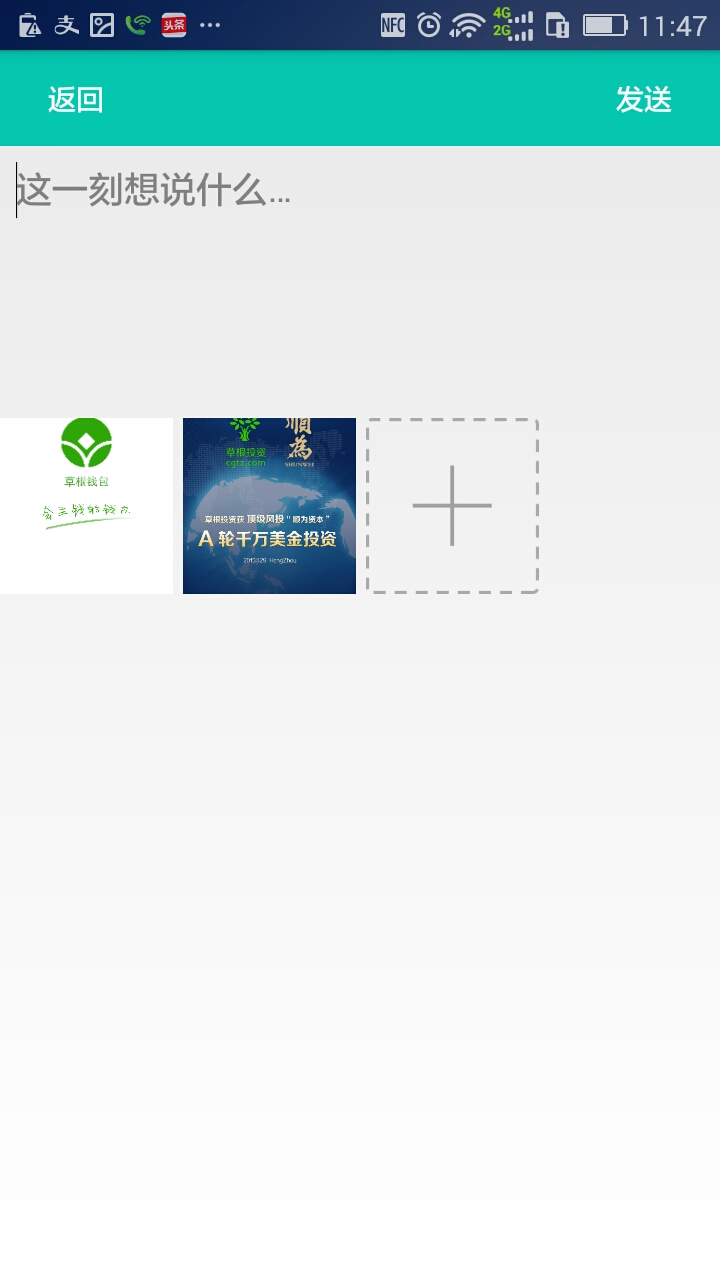imgbutton: (371, 408, 550, 608)
imgview: (183, 408, 364, 601), (3, 412, 183, 603)
textview: (3, 152, 690, 374)
